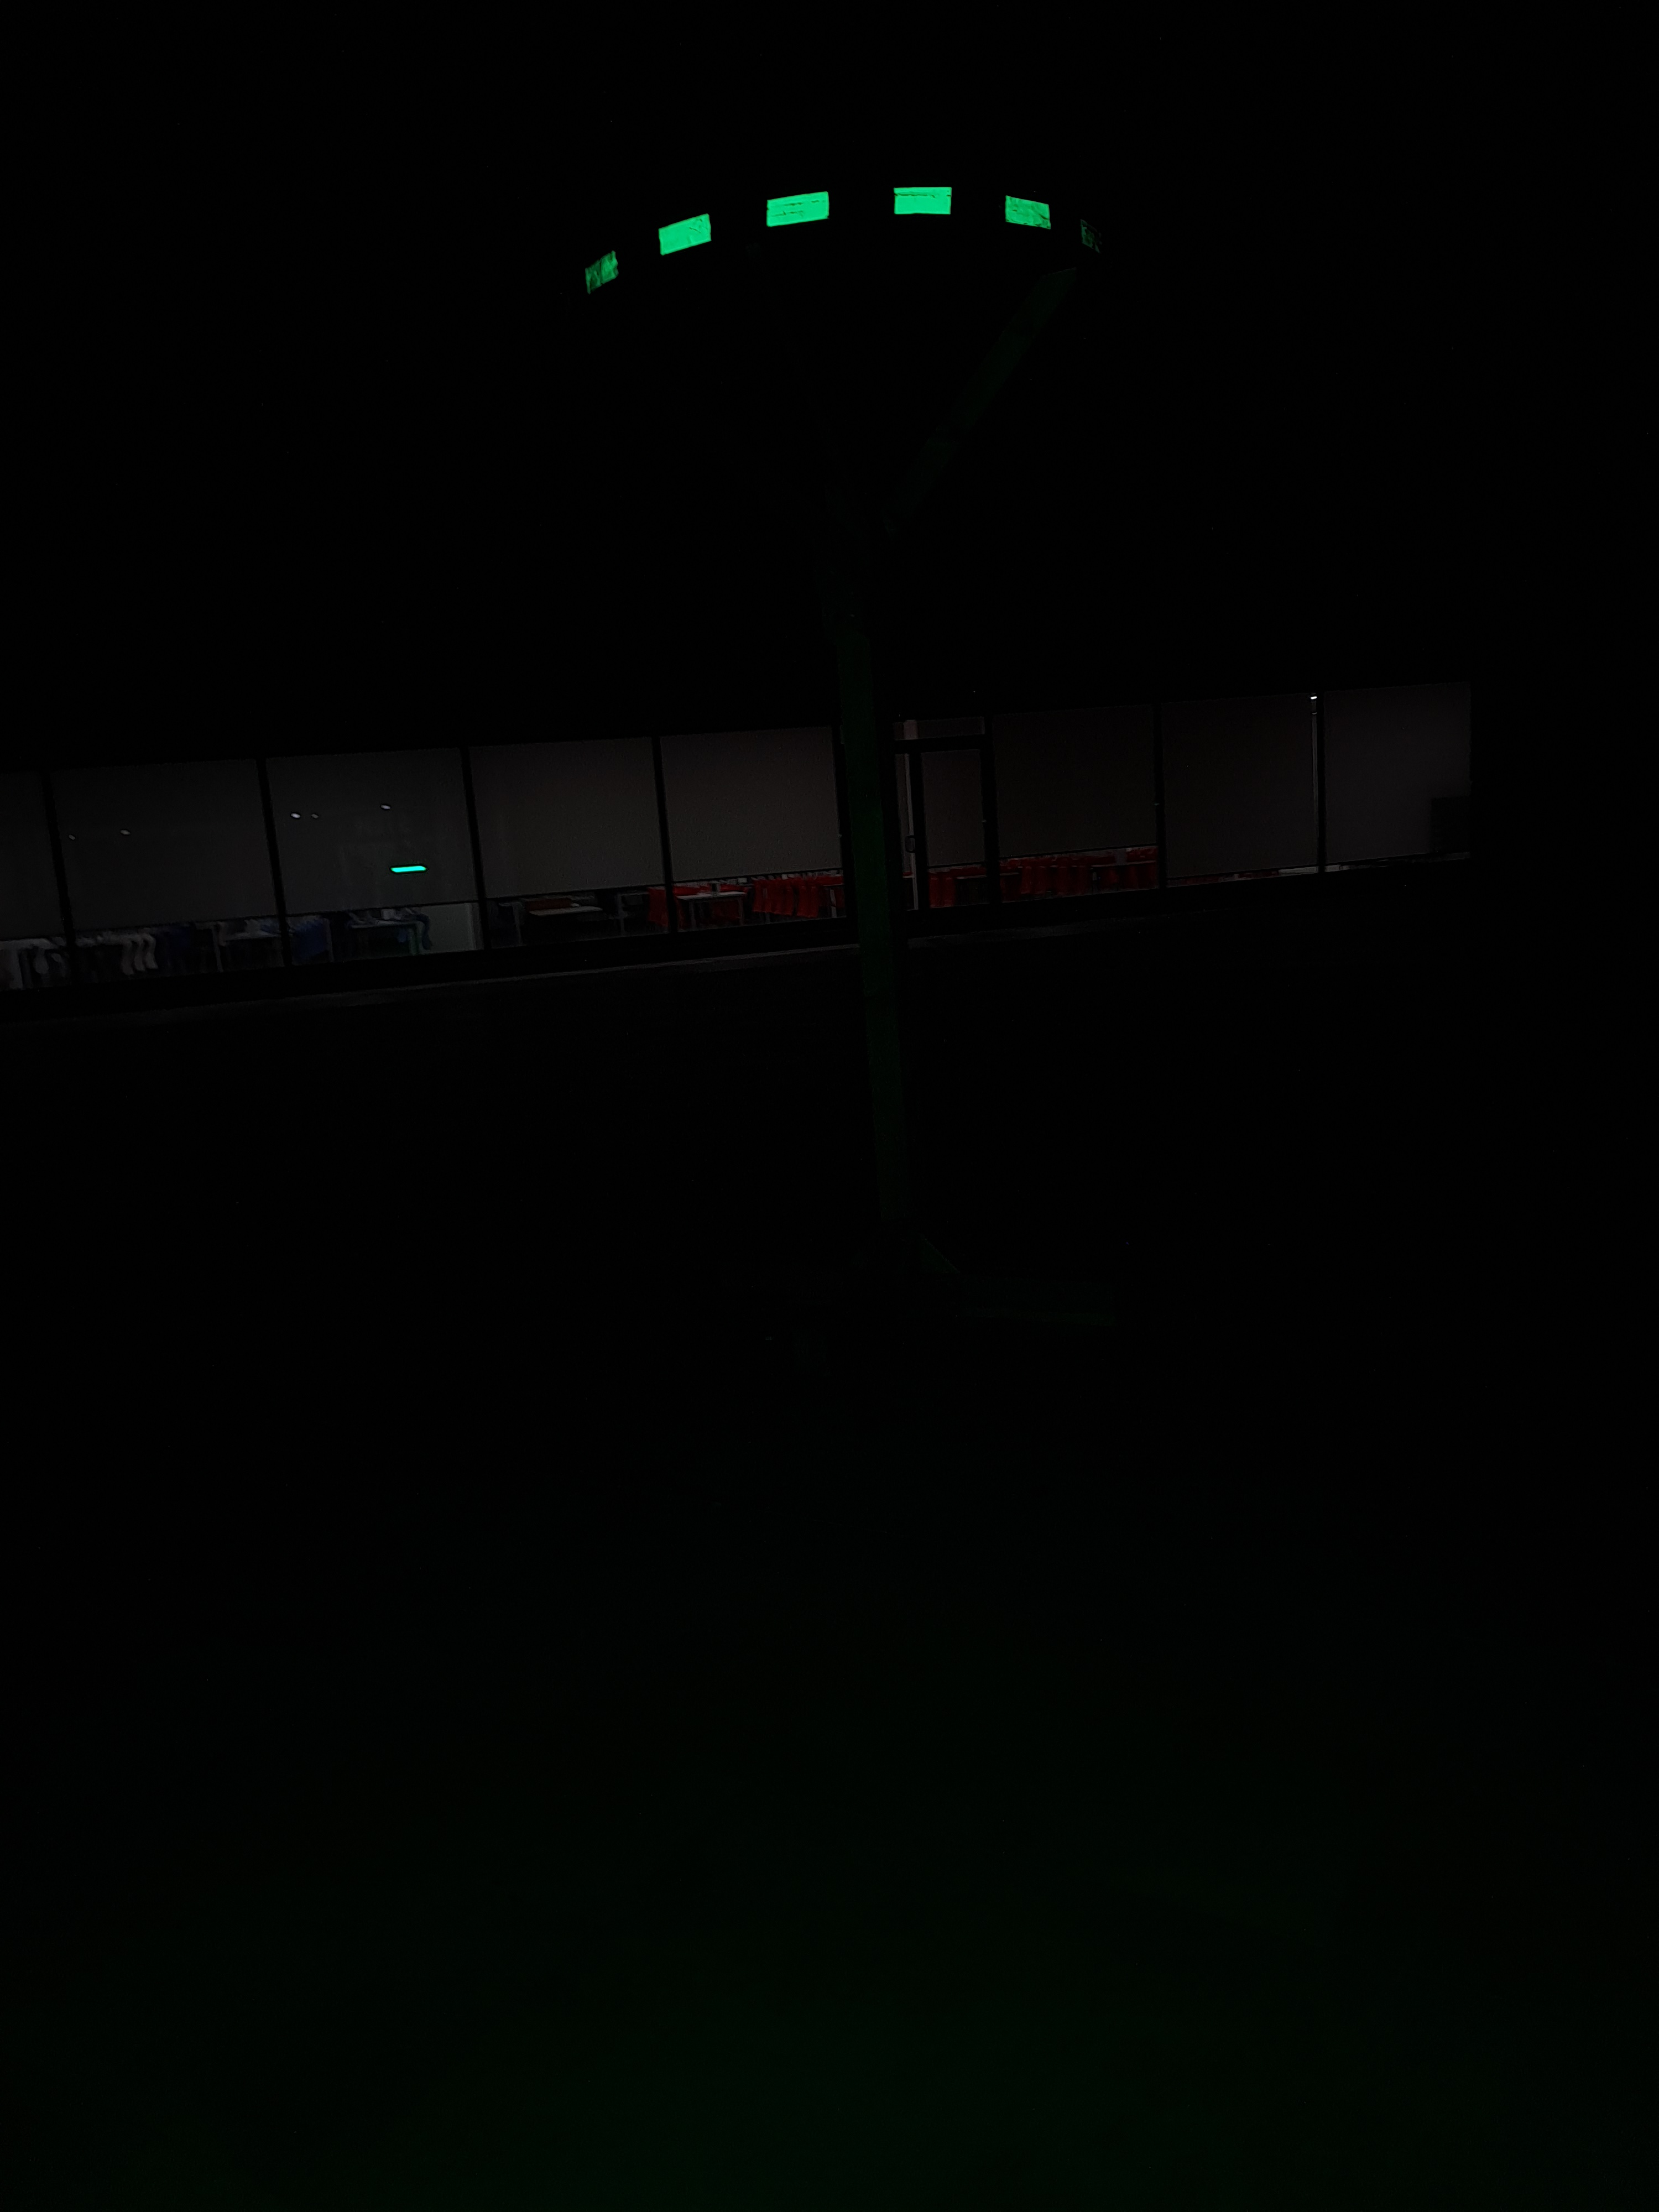hoop: (579, 178, 1110, 308)
